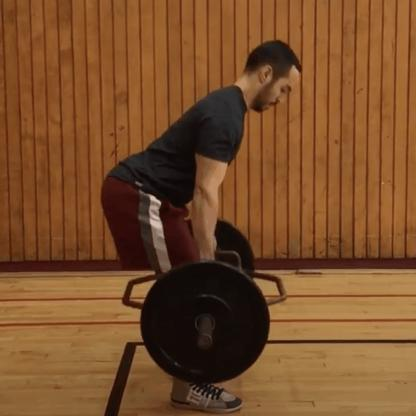barbell: (142, 221, 270, 381)
